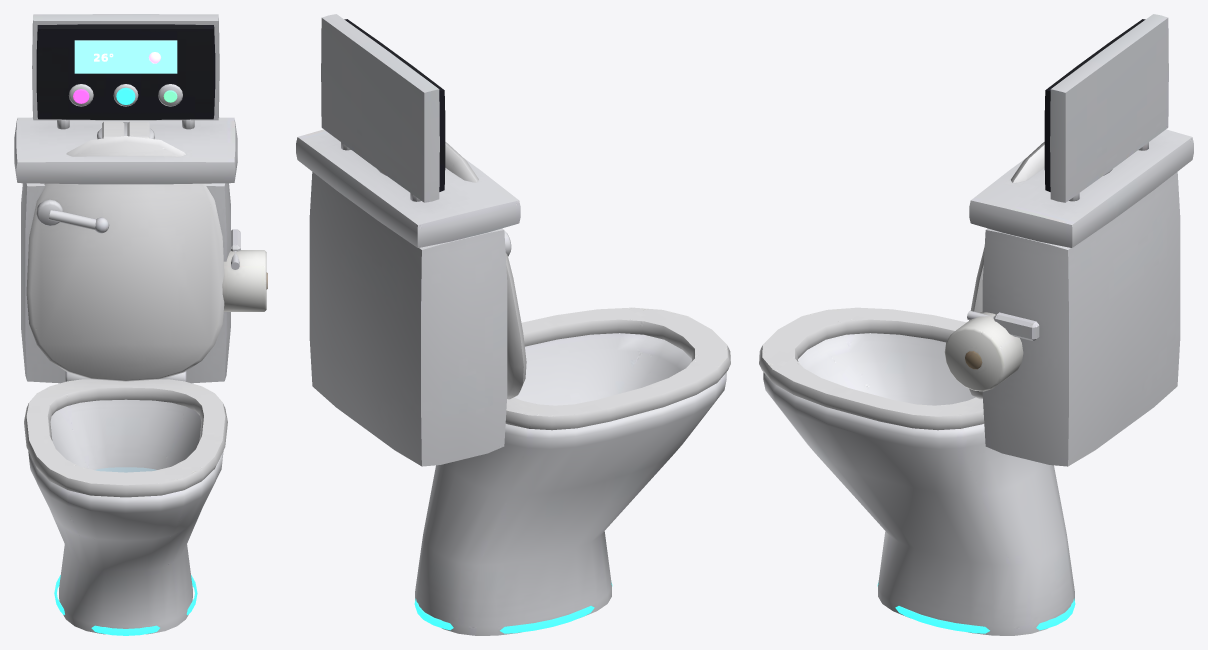
Rendered from toilet.glb.
3 renders of one model, left to right at view 1: azimuth 30°, elevation 25°; view 2: azimuth 150°, elevation 25°; view 3: azimuth 270°, elevation 25°, orthographic. The views are drawn at different scales.
Visible parts, largest first — view 1: body, display; view 2: body; view 3: body.
Part boxes in pixels (<box>): body: <box>14,14,267,635</box>; display: <box>74,40,177,73</box>; body: <box>296,14,730,635</box>; body: <box>759,14,1193,635</box>.
Size of the model in its own units: 1.58 by 2.76 by 1.88.
Materials: 9 (1 with a texture image).
